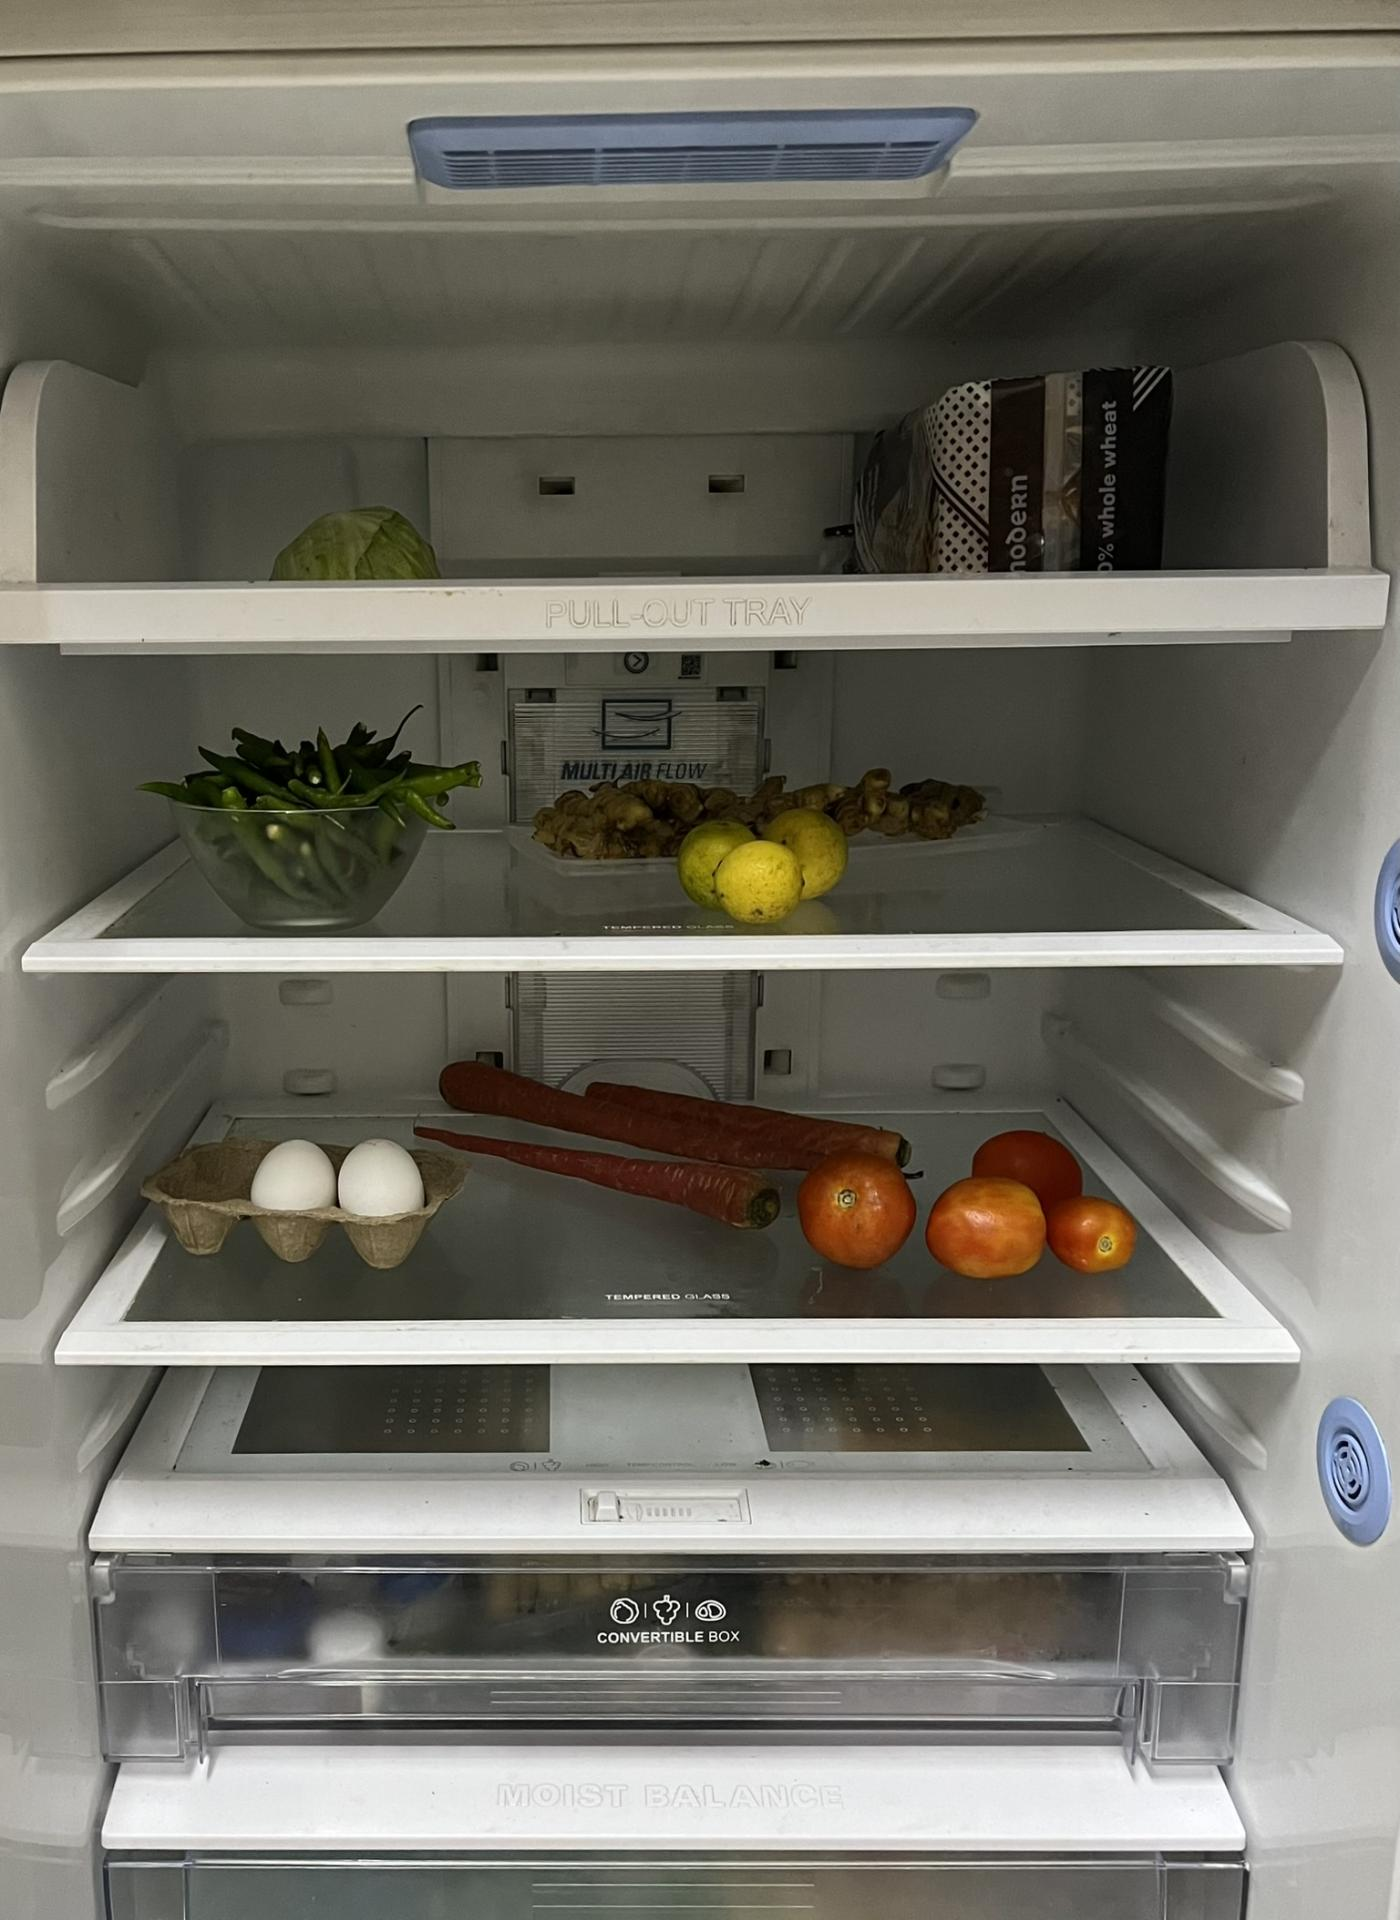bread: (839, 346, 1178, 569)
cabbage: (267, 502, 446, 580)
carrots: (414, 1064, 904, 1245)
chillies: (177, 720, 482, 918)
egg: (253, 1118, 431, 1267)
ginger: (528, 774, 702, 862), (810, 766, 986, 841)
lemon: (677, 803, 853, 920)
tomato: (801, 1137, 1138, 1286)
